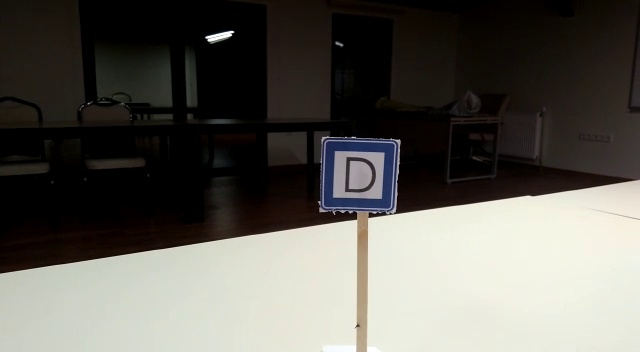durak: (319, 140, 398, 211)
